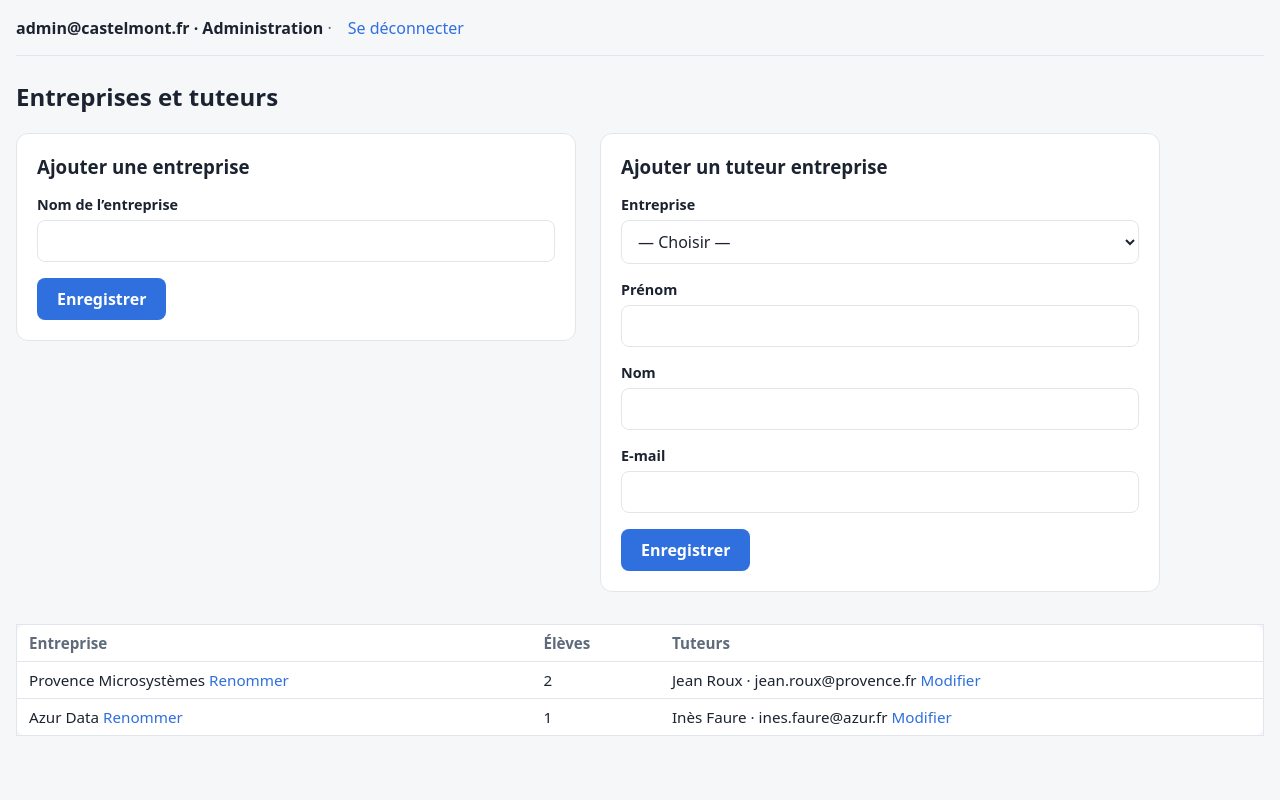
Test case: CompaniesPage › explains why a tutor who still follows students cannot change company (422)
(page scrolled)
Click the button with aria-label "Modifier Jean Roux": (951,680) [920,670,981,690]
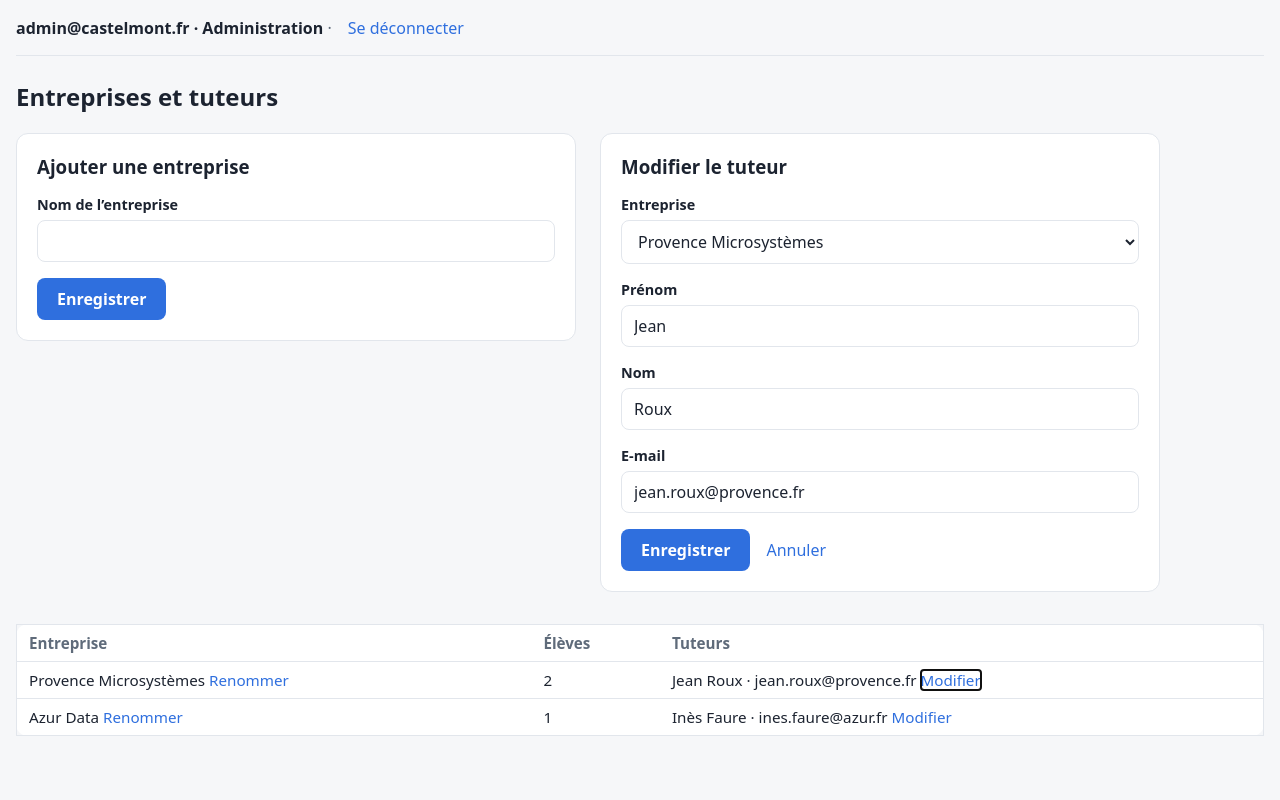
Select "Azur Data" in the dropdown labelled "Entreprise": (880,242) [621,220,1139,264]
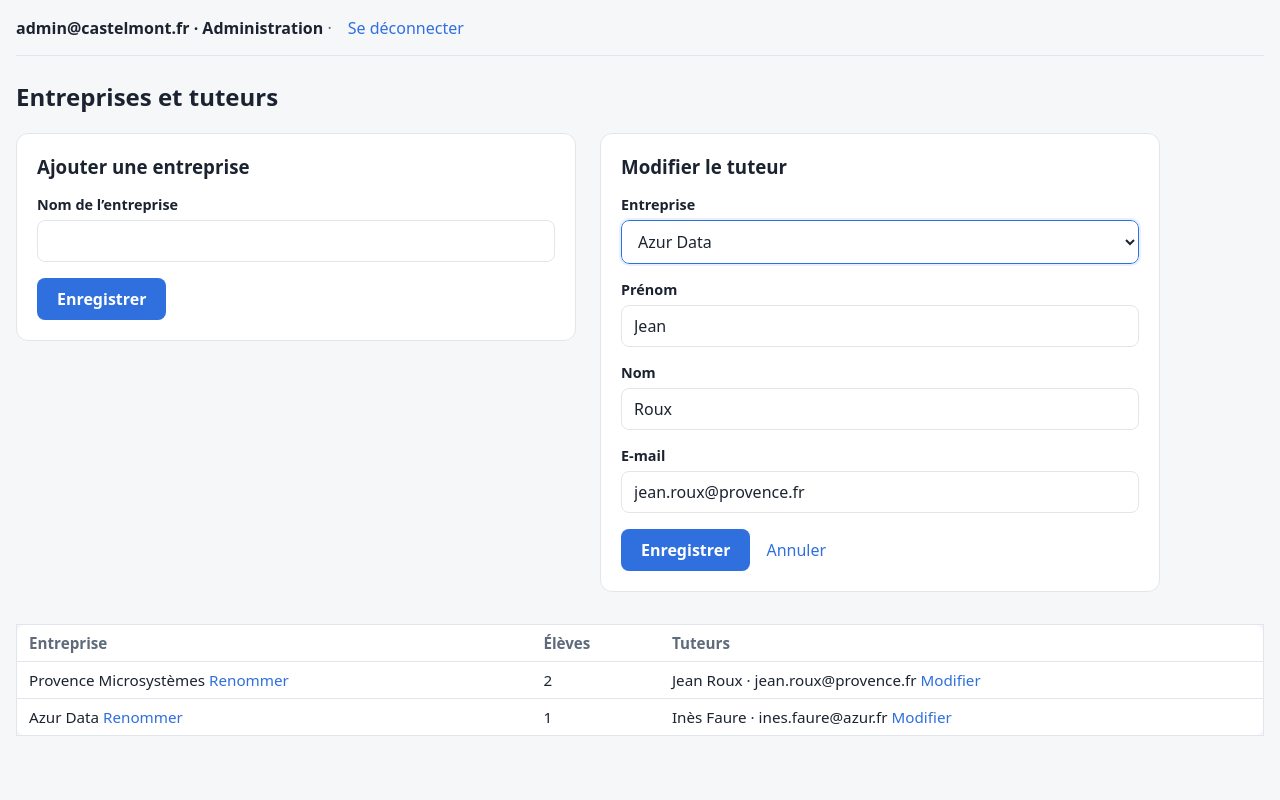
Click the button "Enregistrer" below "E-mail": (686,550) [621,529,750,571]
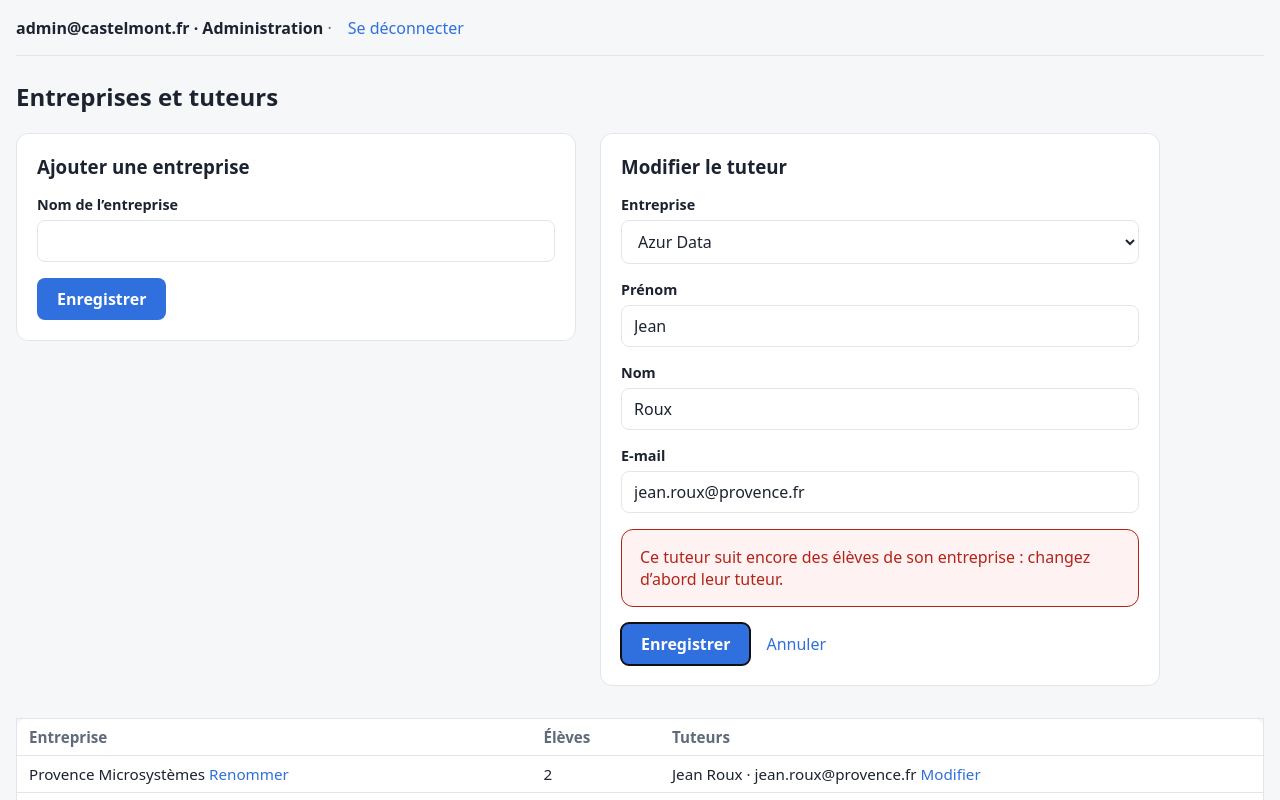
Now the message shows "Ce tuteur suit encore des élèves de son entreprise", box [640,546,1090,590]
